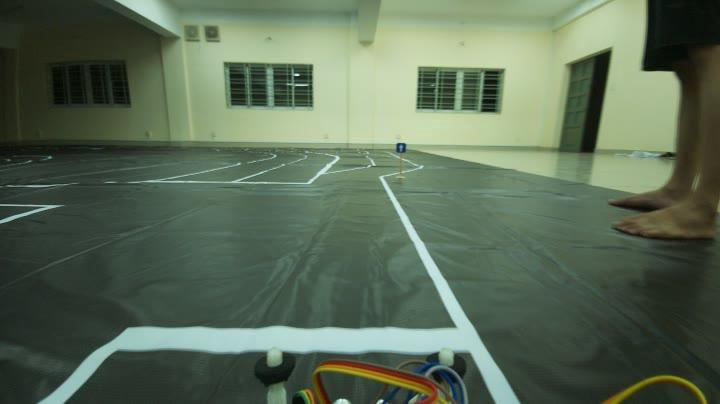onewayroad: (390, 140, 415, 158)
